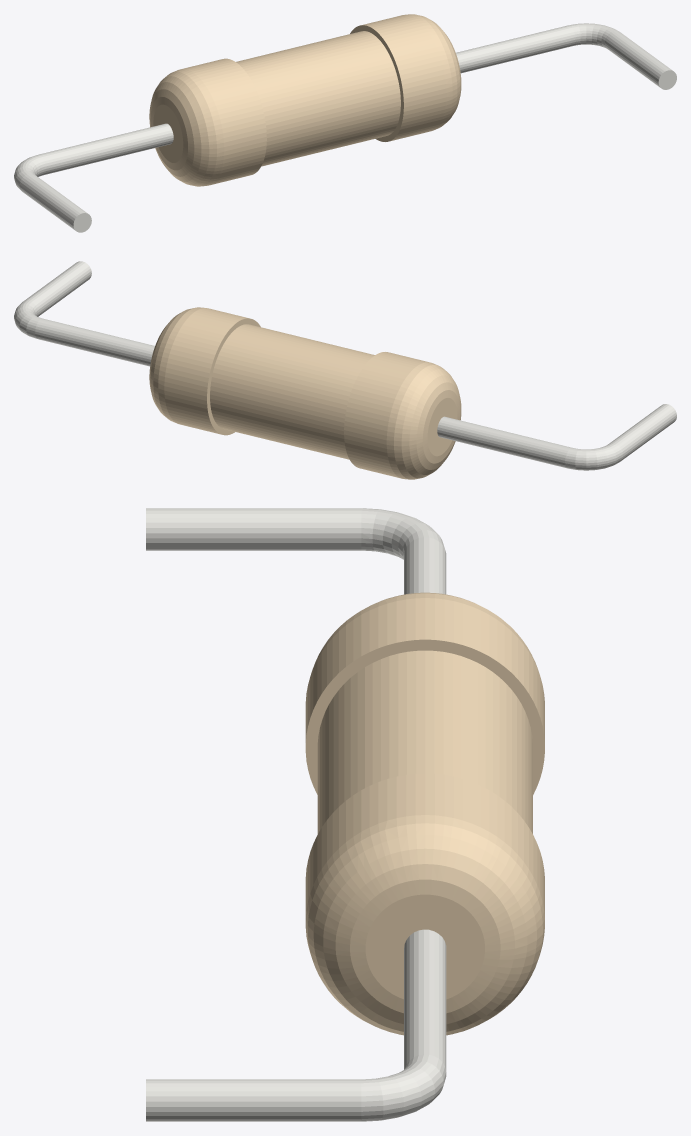
File: R_Axial_DIN0414_L11.9mm_D4.5mm_P25.40mm_Horizontal.glb
The picture shows the model from 3 angles, top to bottom: view 1: azimuth 30°, elevation 25°; view 2: azimuth 150°, elevation 25°; view 3: azimuth 270°, elevation 25°; orthographic projection. The views are drawn at different scales.
Parts seen in each view (by area): view 1: Shape_IndexedFaceSet.004, Shape_IndexedFaceSet.010, Shape_IndexedFaceSet, Shape_IndexedFaceSet.008, Shape_IndexedFaceSet.013, Shape_IndexedFaceSet.005, Shape_IndexedFaceSet.001, Shape_IndexedFaceSet.009, Shape_IndexedFaceSet.015, Shape_IndexedFaceSet.012, Shape_IndexedFaceSet.007, Shape_IndexedFaceSet.002 (+1 smaller); view 2: Shape_IndexedFaceSet.004, Shape_IndexedFaceSet.010, Shape_IndexedFaceSet, Shape_IndexedFaceSet.008, Shape_IndexedFaceSet.013, Shape_IndexedFaceSet.005, Shape_IndexedFaceSet.001, Shape_IndexedFaceSet.015, Shape_IndexedFaceSet.009, Shape_IndexedFaceSet.014, Shape_IndexedFaceSet.012, Shape_IndexedFaceSet.007 (+1 smaller); view 3: Shape_IndexedFaceSet.001, Shape_IndexedFaceSet.004, Shape_IndexedFaceSet, Shape_IndexedFaceSet.008, Shape_IndexedFaceSet.009, Shape_IndexedFaceSet.015, Shape_IndexedFaceSet.003, Shape_IndexedFaceSet.005, Shape_IndexedFaceSet.006, Shape_IndexedFaceSet.007, Shape_IndexedFaceSet.014, Shape_IndexedFaceSet.013 (+1 smaller).
Part boxes in pixels (x1,y1,x2,y2): Shape_IndexedFaceSet.004: (236,31,400,166); Shape_IndexedFaceSet.010: (149,69,224,186); Shape_IndexedFaceSet: (362,14,446,141); Shape_IndexedFaceSet.008: (183,58,266,185); Shape_IndexedFaceSet.013: (39,123,173,174); Shape_IndexedFaceSet.005: (456,25,575,73); Shape_IndexedFaceSet.001: (406,14,461,129); Shape_IndexedFaceSet.009: (605,31,672,87); Shape_IndexedFaceSet.015: (19,173,87,229); Shape_IndexedFaceSet.012: (153,104,183,162); Shape_IndexedFaceSet.007: (569,23,617,48); Shape_IndexedFaceSet.002: (350,25,403,141); Shape_IndexedFaceSet.004: (210,324,374,459); Shape_IndexedFaceSet.010: (386,362,461,479); Shape_IndexedFaceSet: (164,308,248,434); Shape_IndexedFaceSet.008: (344,352,428,477); Shape_IndexedFaceSet.013: (437,416,572,468); Shape_IndexedFaceSet.005: (35,318,154,366); Shape_IndexedFaceSet.001: (149,307,203,423); Shape_IndexedFaceSet.015: (609,404,676,460); Shape_IndexedFaceSet.009: (24,261,91,316); Shape_IndexedFaceSet.014: (565,443,622,470); Shape_IndexedFaceSet.012: (427,398,457,456); Shape_IndexedFaceSet.007: (14,300,42,338); Shape_IndexedFaceSet.001: (305,815,544,1035); Shape_IndexedFaceSet.004: (317,650,532,833); Shape_IndexedFaceSet: (305,773,544,917); Shape_IndexedFaceSet.008: (305,598,544,742); Shape_IndexedFaceSet.009: (146,1079,361,1121); Shape_IndexedFaceSet.015: (146,508,361,550); Shape_IndexedFaceSet.003: (365,894,484,999); Shape_IndexedFaceSet.005: (404,929,446,1069); Shape_IndexedFaceSet.006: (305,639,544,794); Shape_IndexedFaceSet.007: (361,1054,446,1121); Shape_IndexedFaceSet.014: (361,508,444,559); Shape_IndexedFaceSet.013: (404,537,446,594).
Bounding box in the file's own units: 10.31 × 1.77 × 2.95.
